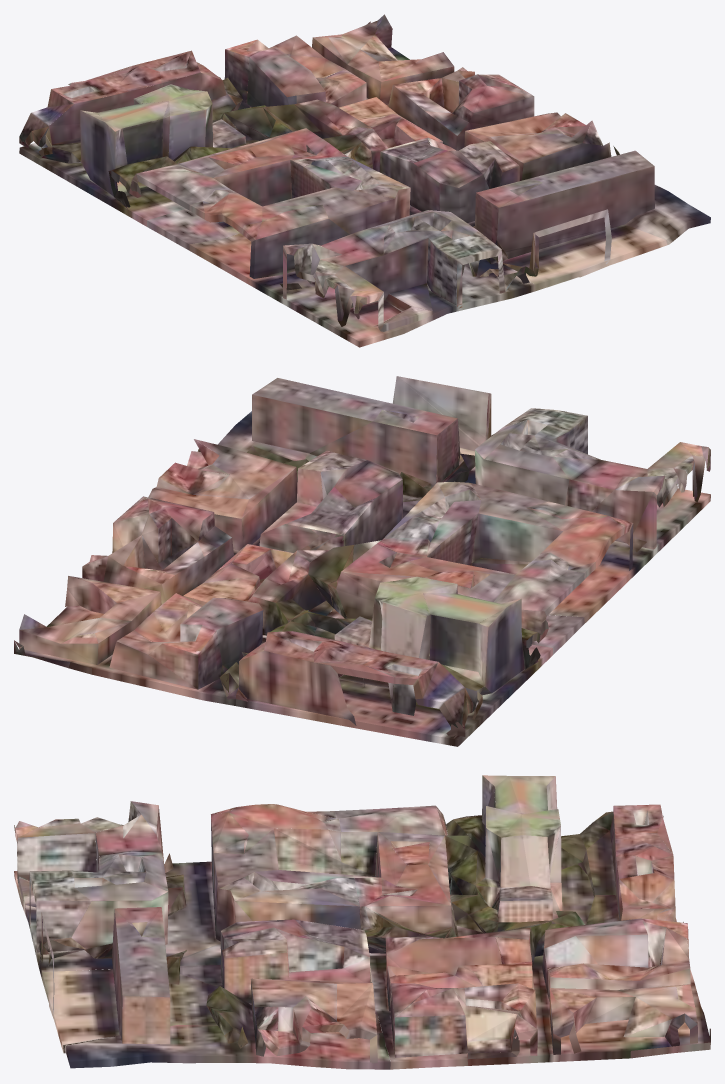
3 views of the same model, one above another, from view 1: azimuth 30°, elevation 25°; view 2: azimuth 150°, elevation 25°; view 3: azimuth 270°, elevation 25° (orthographic). The views are drawn at different scales.
Parts seen in each view (by area): view 1: Mesh_0; view 2: Mesh_0; view 3: Mesh_0.
Part boxes in pixels (bbox=[...]): Mesh_0: bbox=[19, 14, 710, 347]; Mesh_0: bbox=[14, 376, 710, 746]; Mesh_0: bbox=[14, 775, 710, 1069].
Bounding box in the file's own units: 270 × 43.7 × 330.
2 materials, 2 textured.
